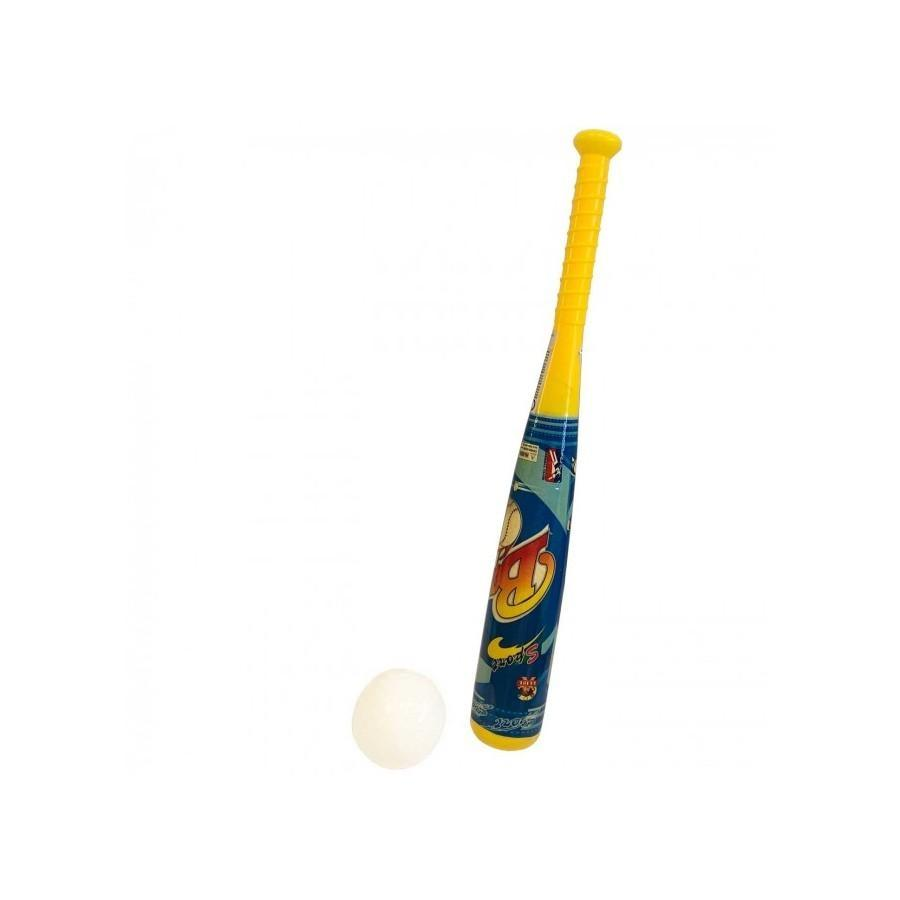Baseball-Bat: (514, 102, 676, 796)
